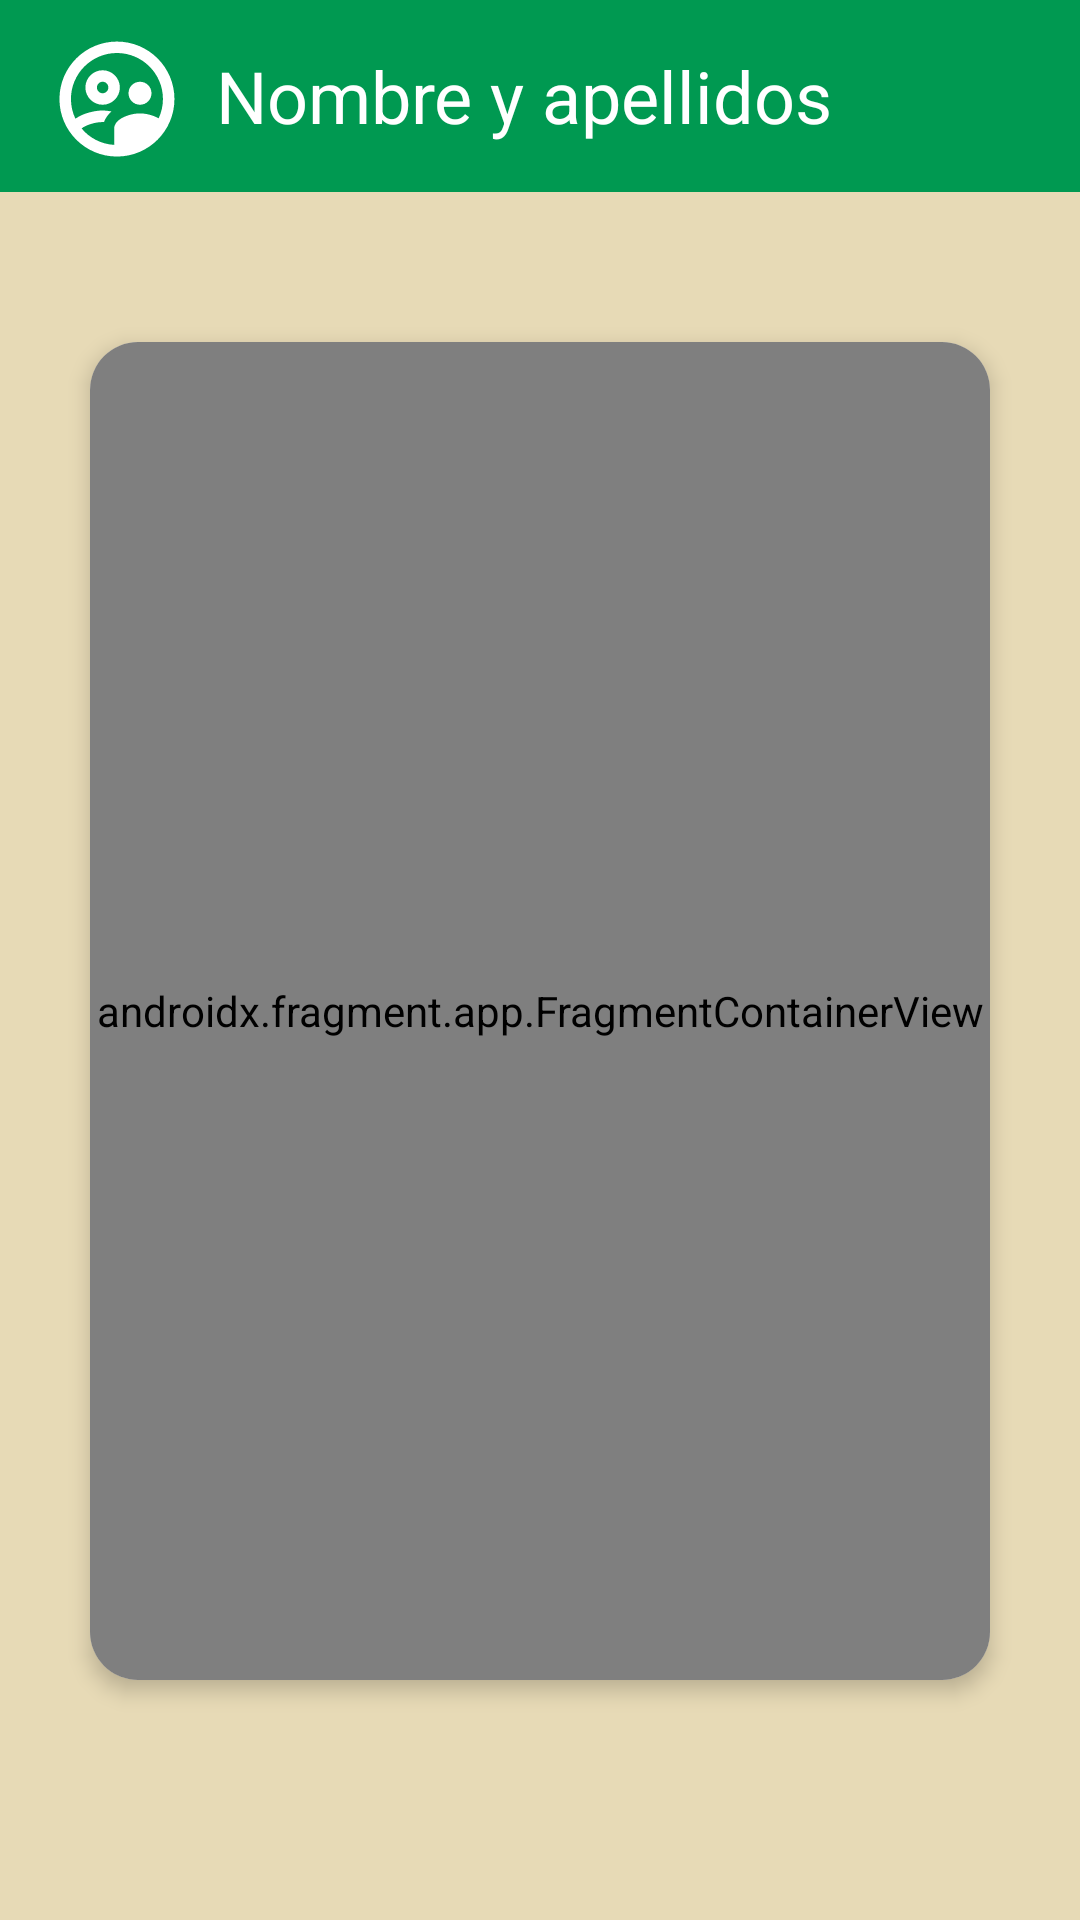

Locate icon controls on the screen. Image size 1080x1920, boxes as (x1, y1, x2, y2).
supervised user circle: (59, 41, 175, 157)
